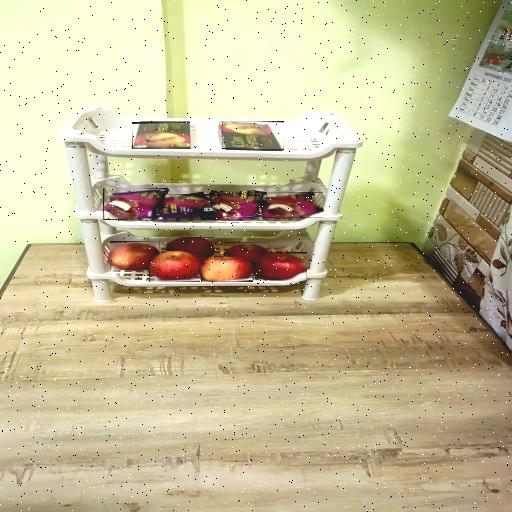Apple: (149, 252, 200, 282), (255, 252, 307, 281), (110, 241, 160, 270), (201, 256, 253, 282), (166, 238, 214, 262), (224, 242, 270, 263)
Choco Fills: (222, 121, 284, 149), (132, 122, 190, 149)
Choco Pie: (103, 188, 168, 220), (156, 194, 220, 220), (210, 190, 264, 220), (262, 192, 323, 218)
